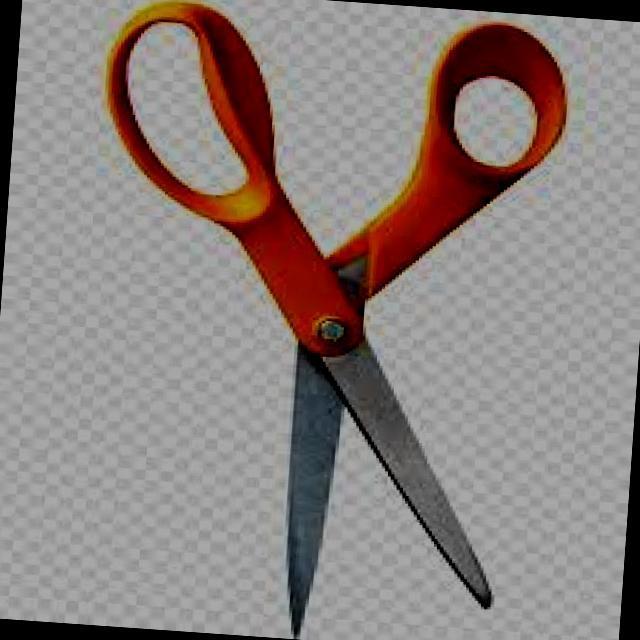Scissors: (56, 0, 588, 640)
